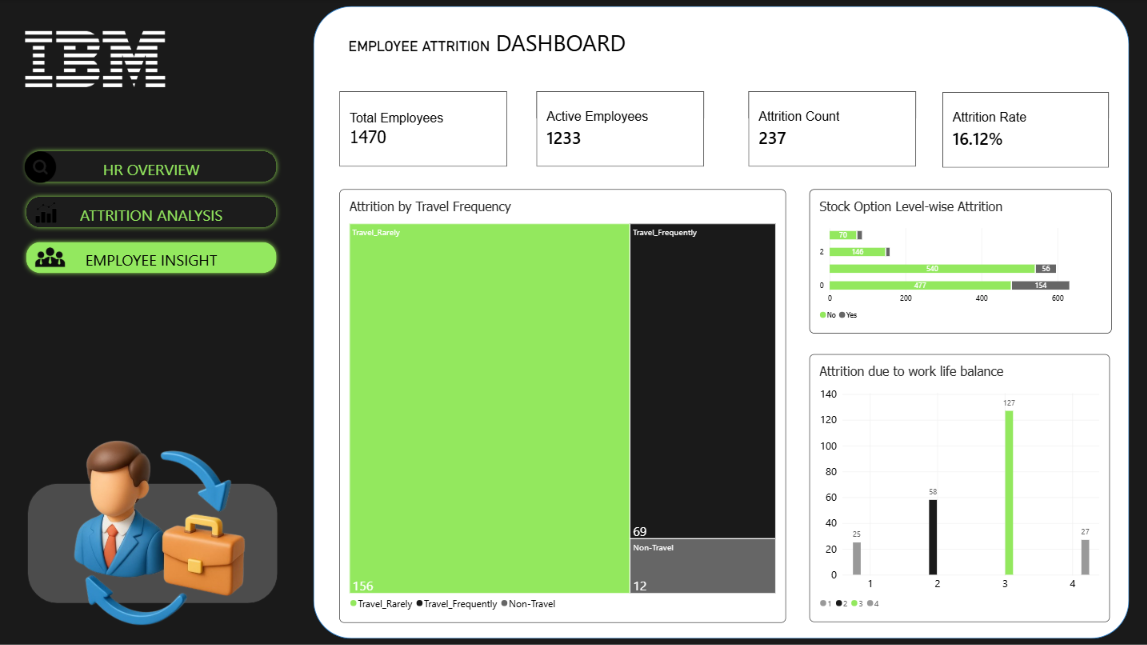

The page's visual inventory and layout, read from the dashboard file:
{"tool":"powerbi","page":{"name":"EMPLOYEE INSIGHT","canvas":[1920,1080],"ordinal":2},"visuals":[{"type":"shape","box":[526,12,1362,1056],"z":0},{"type":"textbox","box":[584,46,690,310],"z":1000},{"type":"treemap","title":"Attrition by Travel Frequency","fields":{"Group":["HR_Employee_Attrition_Final.BusinessTravel"],"Values":["HR_Employee_Attrition_Final.Attrition Count"]},"box":[570,316.7,745.6,723.9],"z":2000},{"type":"barChart","title":"Stock Option Level-wise Attrition","fields":{"Y":["HR_Employee_Attrition_Final.Employee Count"],"Category":["HR_Employee_Attrition_Final.Stock Option Level"],"Series":["HR_Employee_Attrition_Final.Attrition"]},"box":[1353.6,316.7,504.9,240.7],"z":3000},{"type":"clusteredColumnChart","title":"Attrition due to work life balance","fields":{"Category":["HR_Employee_Attrition_Final.Work Life Balance"],"Y":["HR_Employee_Attrition_Final.Attrition Count"],"Series":["HR_Employee_Attrition_Final.Work Life Balance"]},"box":[1353.6,593.6,501.3,447],"z":4000},{"type":"image","box":[0,0,322,200],"z":8000},{"type":"cardVisual","title":"TOTAL EMPLOYEE","fields":{"Data":["HR_Employee_Attrition_Final.Total Employees"]},"box":[570,153.8,280,126],"z":9000},{"type":"cardVisual","fields":{"Data":["HR_Employee_Attrition_Final.Active Employees"]},"box":[897.6,153.8,280,126],"z":10000},{"type":"cardVisual","fields":{"Data":["HR_Employee_Attrition_Final.Attrition Count"]},"box":[1252.3,153.8,280,126],"z":11000},{"type":"cardVisual","fields":{"Data":["HR_Employee_Attrition_Final.Attrition Rate"]},"box":[1576,156,278,126],"z":12000},{"type":"pageNavigator","box":[38,246.1,434.3,220.8],"z":14000},{"type":"image","box":[30.8,253.4,79.6,52.5],"z":15000},{"type":"image","box":[36.2,363.7,99.5,133.9],"z":16000},{"type":"image","box":[54.3,316.7,48.9,77.8],"z":17000},{"type":"shape","box":[48.9,808.9,418,200.9],"z":17001},{"type":"image","box":[78.5,701.3,372.4,379],"z":17002}]}

Visuals, with their boxes in screenshot pixels (x1, y1, x2, y2), scaled from the page's 1920x1080 canvas onto the 1147x645 screenshot:
shape: (x1=314, y1=7, x2=1128, y2=638)
textbox: (x1=349, y1=27, x2=761, y2=213)
"Attrition by Travel Frequency" treemap: (x1=341, y1=189, x2=786, y2=621)
"Stock Option Level-wise Attrition" barChart: (x1=809, y1=189, x2=1110, y2=333)
"Attrition due to work life balance" clusteredColumnChart: (x1=809, y1=355, x2=1108, y2=621)
image: (x1=0, y1=0, x2=192, y2=119)
"TOTAL EMPLOYEE" cardVisual: (x1=341, y1=92, x2=508, y2=167)
cardVisual - HR_Employee_Attrition_Final.Active Employees: (x1=536, y1=92, x2=703, y2=167)
cardVisual - HR_Employee_Attrition_Final.Attrition Count: (x1=748, y1=92, x2=915, y2=167)
cardVisual - HR_Employee_Attrition_Final.Attrition Rate: (x1=941, y1=93, x2=1108, y2=168)
pageNavigator: (x1=23, y1=147, x2=282, y2=279)
image: (x1=18, y1=151, x2=66, y2=183)
image: (x1=22, y1=217, x2=81, y2=297)
image: (x1=32, y1=189, x2=62, y2=236)
shape: (x1=29, y1=483, x2=279, y2=603)
image: (x1=47, y1=419, x2=269, y2=644)
